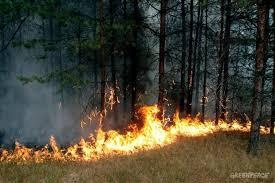fire: (0, 93, 248, 164)
